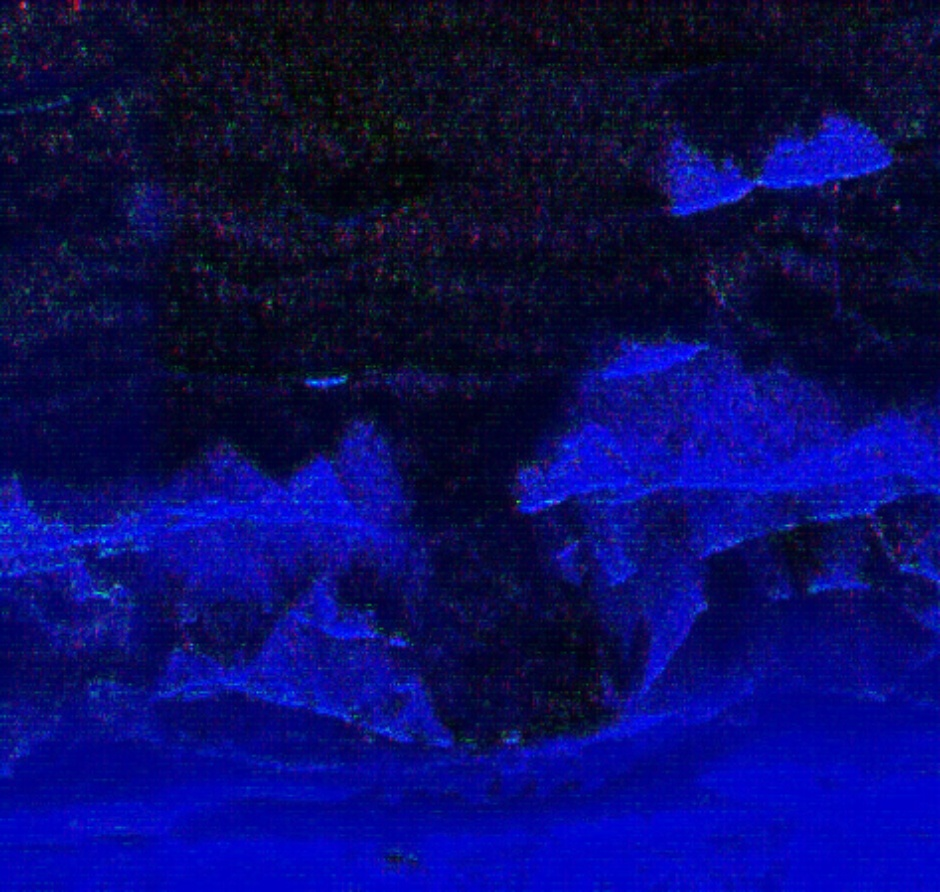rip_current: (327, 364, 634, 706)
